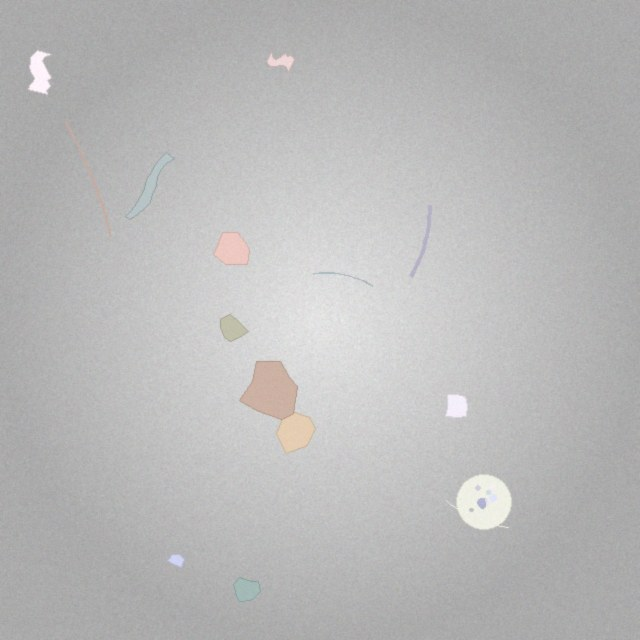fiber: (62, 119, 113, 239), (406, 201, 434, 281), (445, 499, 510, 529), (311, 269, 376, 289)
film: (126, 153, 175, 219), (28, 50, 52, 95), (267, 52, 295, 75)
foam: (456, 474, 511, 529)
fragment: (239, 362, 298, 419), (276, 410, 316, 454), (214, 232, 249, 265), (220, 315, 249, 342), (234, 577, 260, 602), (446, 395, 468, 418), (168, 554, 184, 568)
